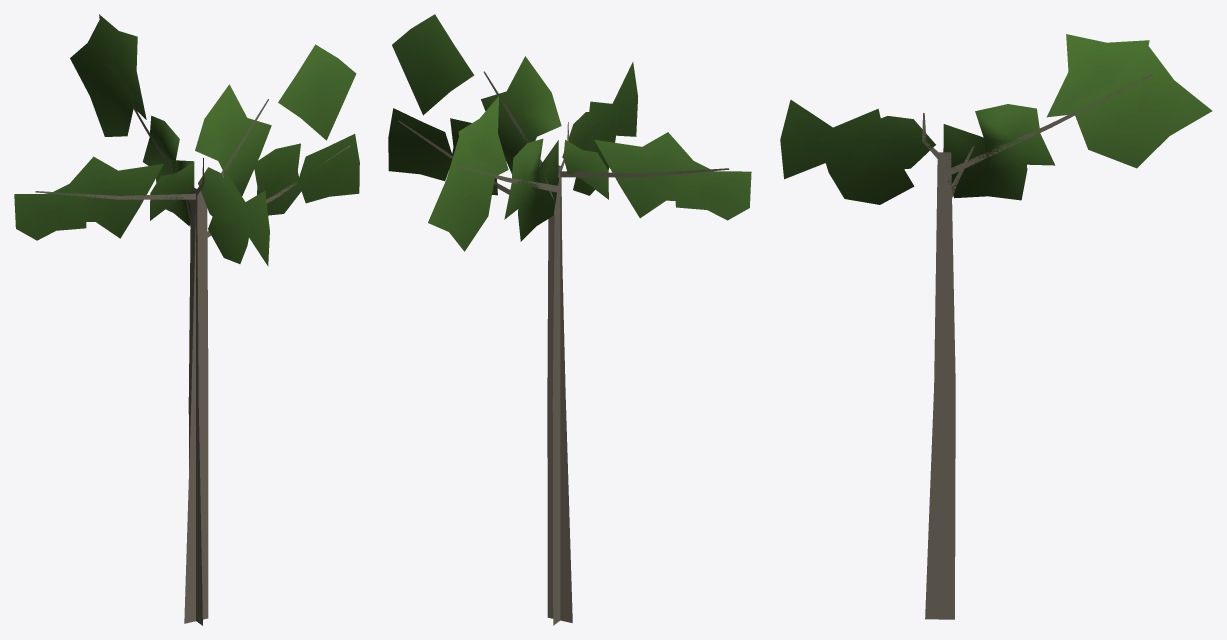
The model's file is emergent-a.card.glb.
The picture shows the model from 3 angles, left to right: view 1: azimuth 30°, elevation 25°; view 2: azimuth 150°, elevation 25°; view 3: azimuth 270°, elevation 25°; orthographic projection. The views are drawn at different scales.
Bounding box in the file's own units: 15.89 × 24.07 × 15.94.
